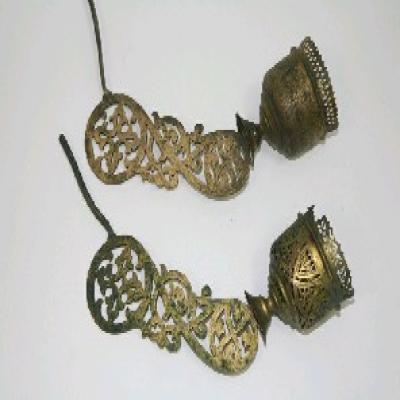technique: (59, 136, 355, 378), (85, 0, 341, 201)
